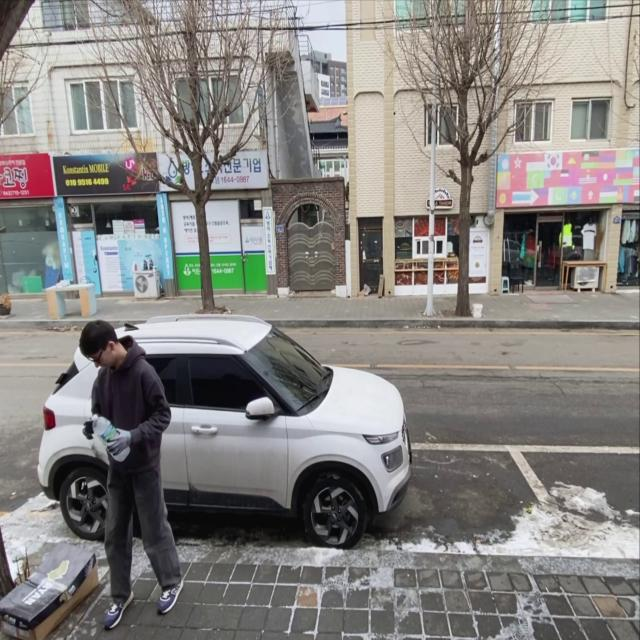gloved_hand: (105, 426, 132, 458), (80, 418, 96, 443)
